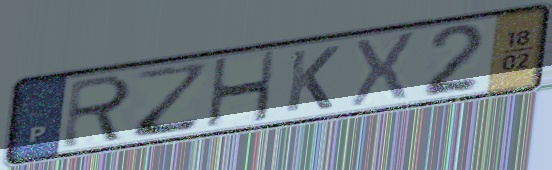2: (422, 22, 488, 100)
H: (205, 48, 279, 131)
K: (282, 43, 343, 115)
R: (58, 72, 136, 152)
X: (346, 28, 420, 110)
Z: (132, 59, 212, 141)
